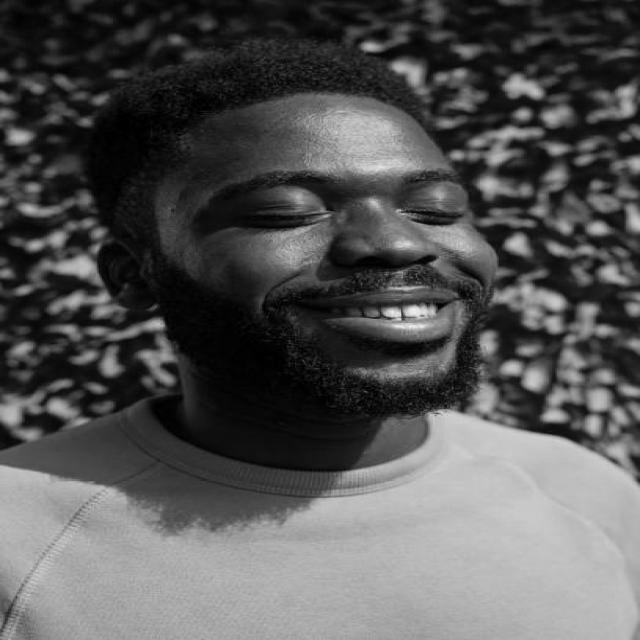real: (166, 94, 504, 418), (196, 160, 506, 238)
